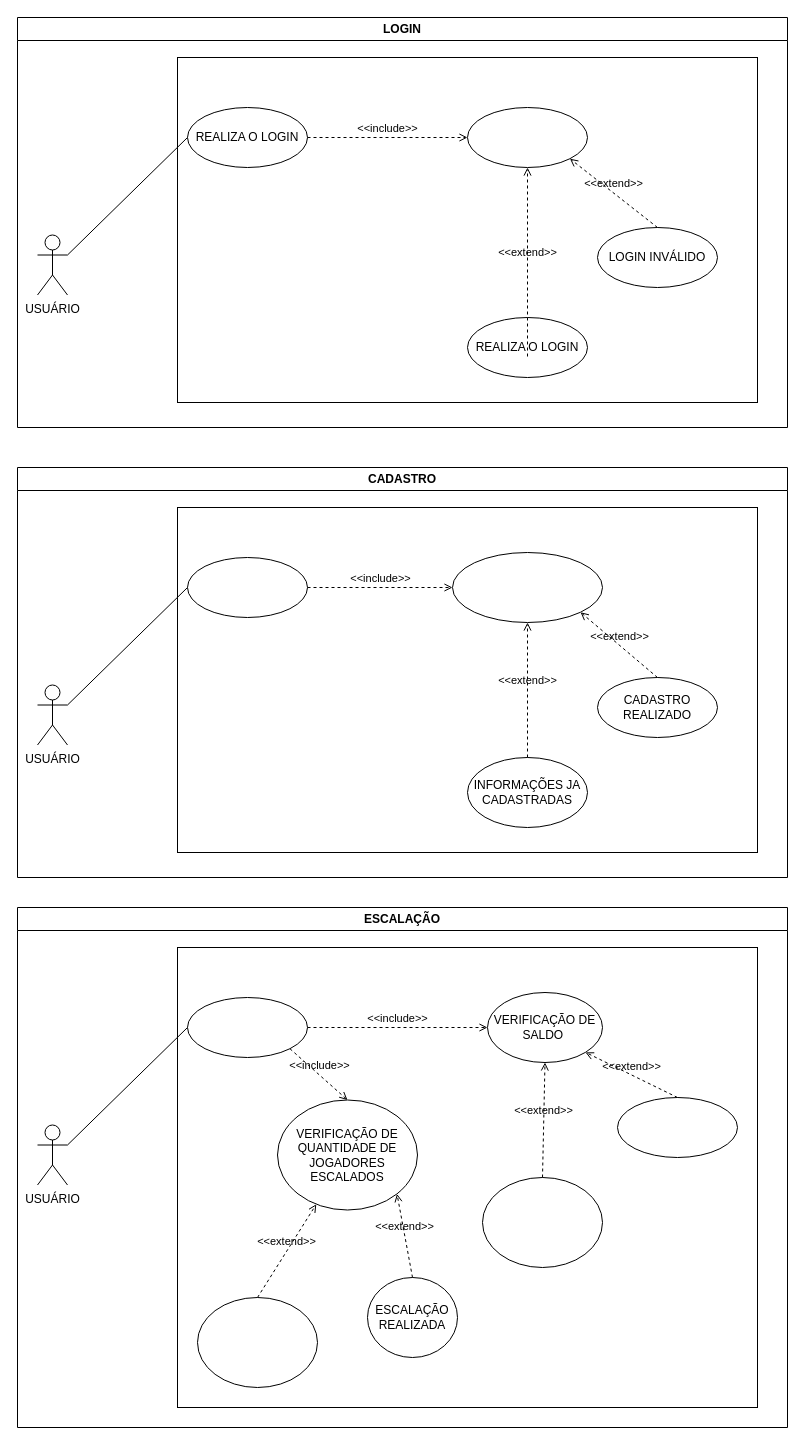
Some shapes in this 805 by 1445 pixel diagram are drawn without their labels. Here are the shapes that lost their labels. From the top down, the centre of each, then its label:
At [527,137]: "VERIFICA AS INFORMAÇÕES".
At [247,587]: "REALIZA O CADASTRO".
At [527,587]: "VERIFICAÇÃO DE INFORMAÇÕES JÁ EXISTENTE".
At [247,1027]: "SELECIONA JOGADOR".
At [677,1127]: "SALDO INSUFICIENTE".
At [542,1222]: "DESCONTAR O VALOR DO JOGADOR DO SALDO".
At [257,1342]: "MÁXIMO DE JOGADORES JÁ ESCALADO".
